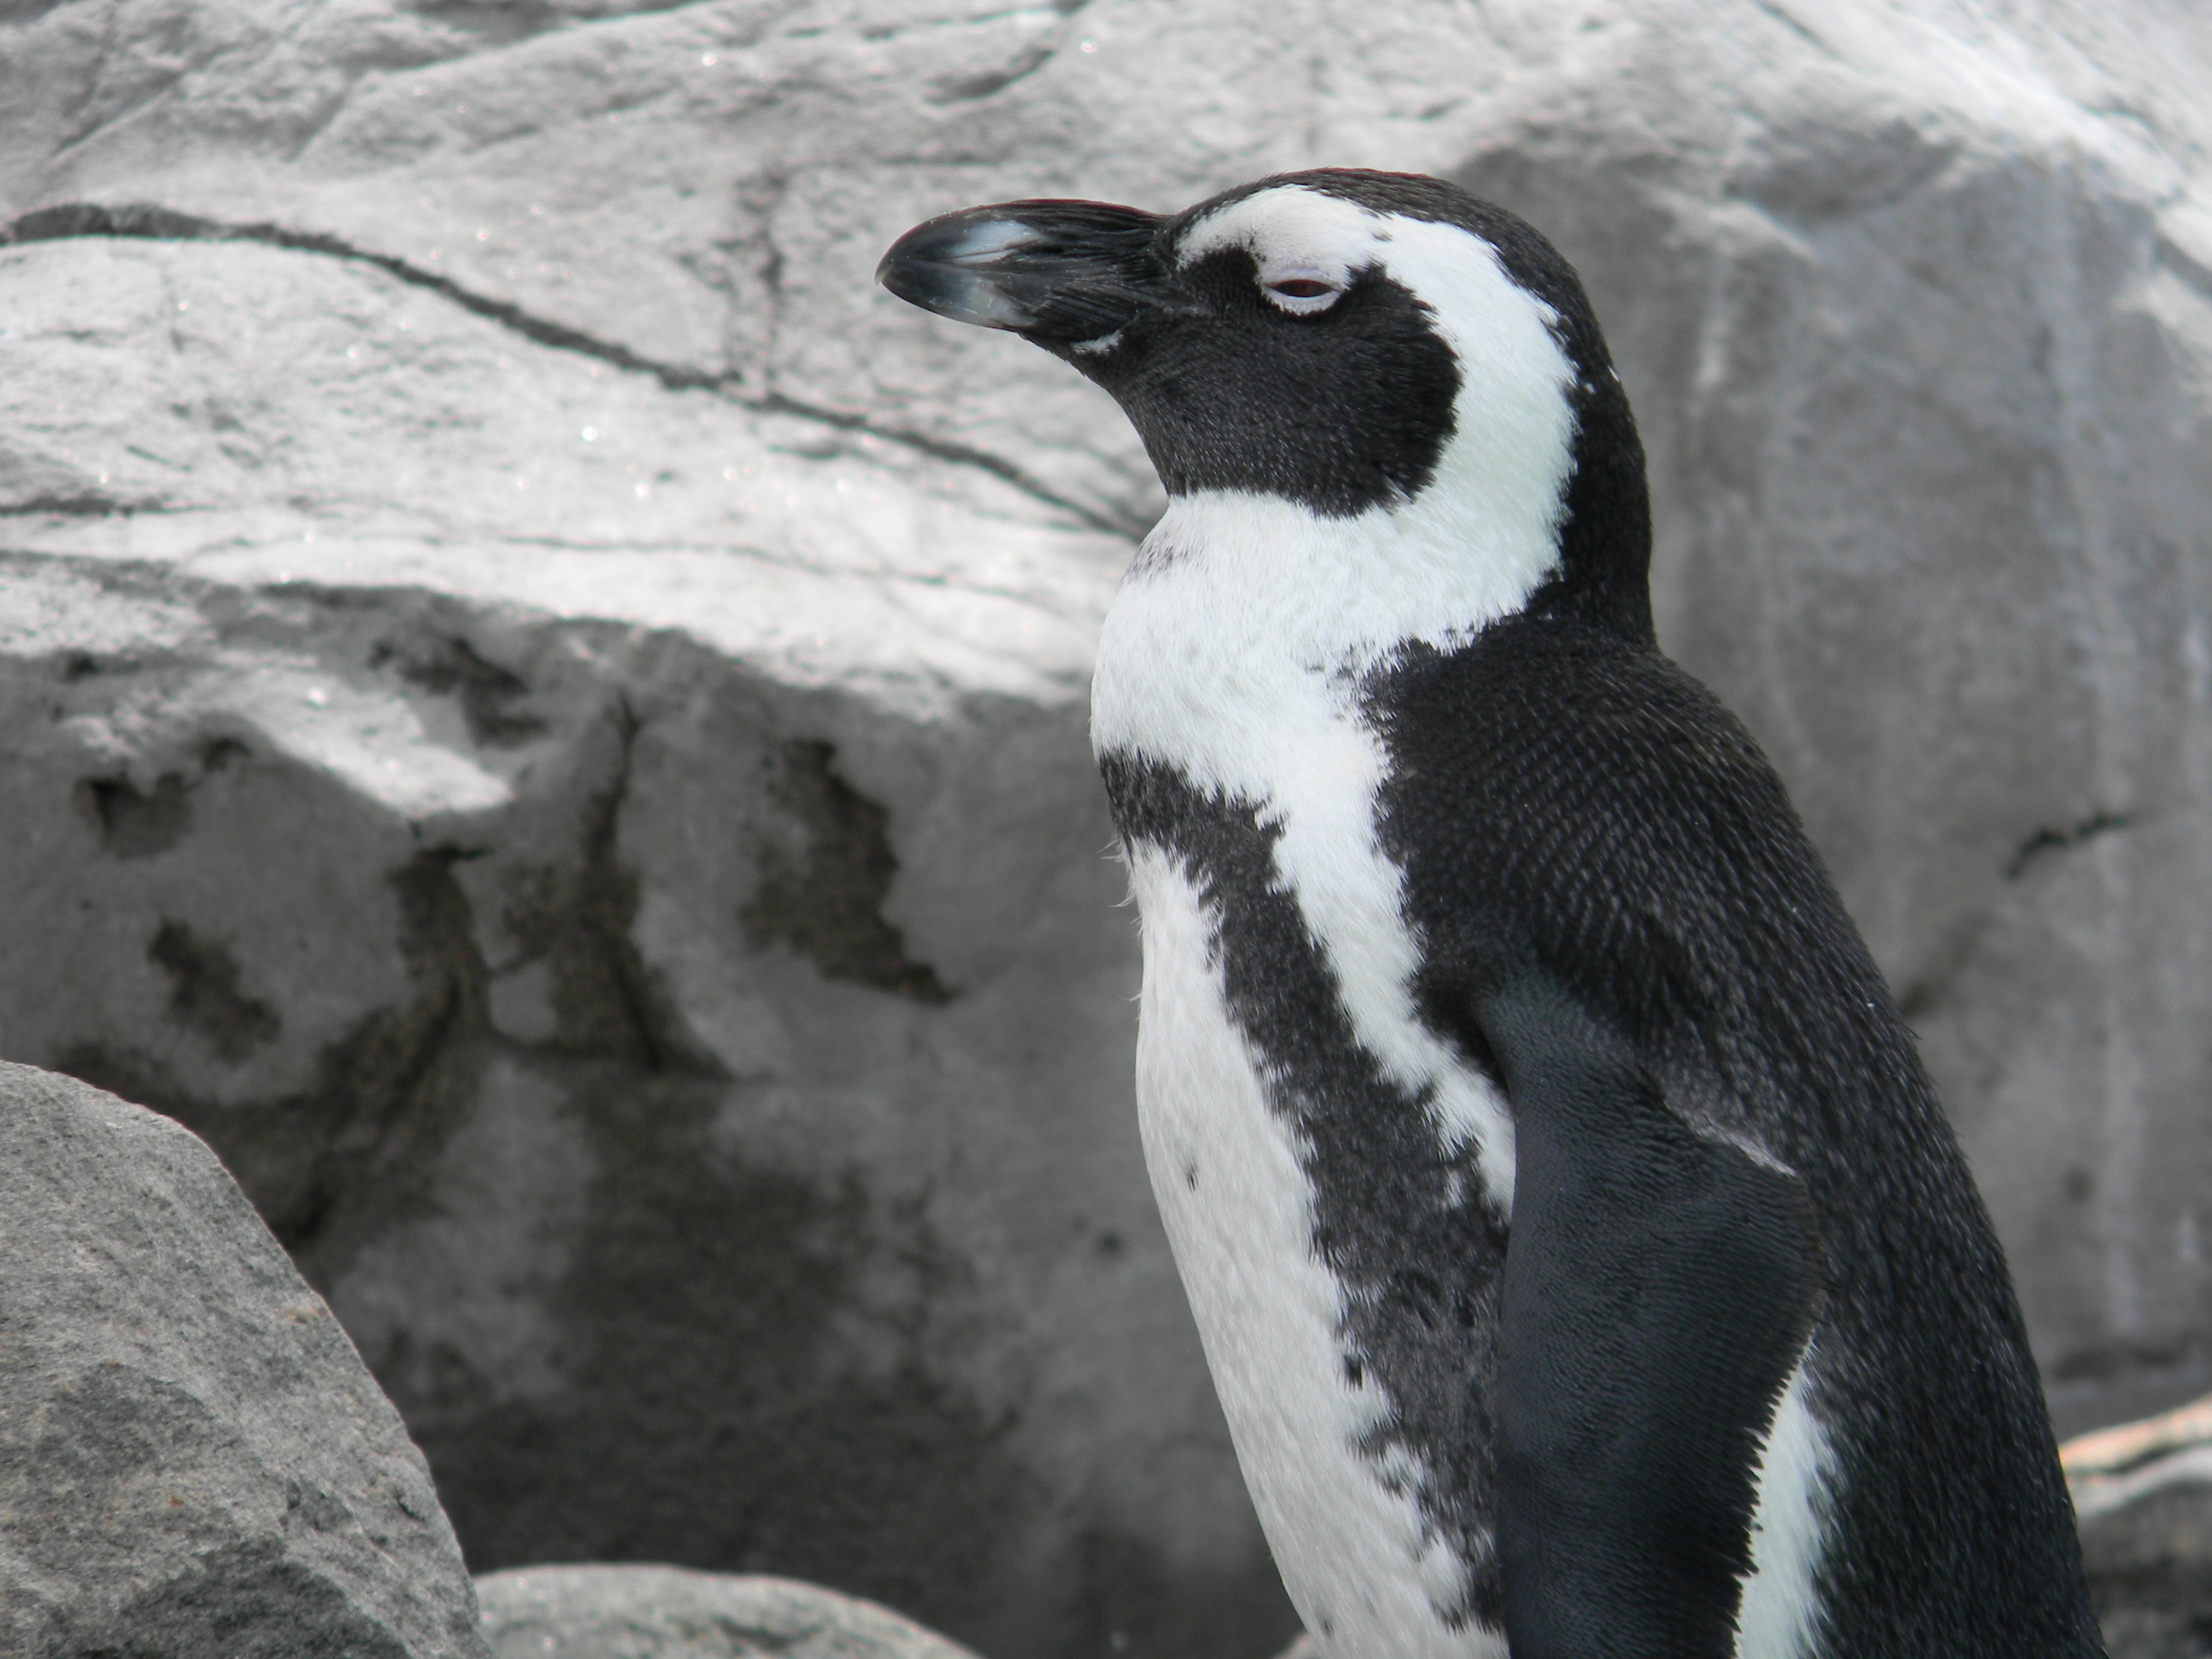penguin: (887, 173, 2128, 1659)
